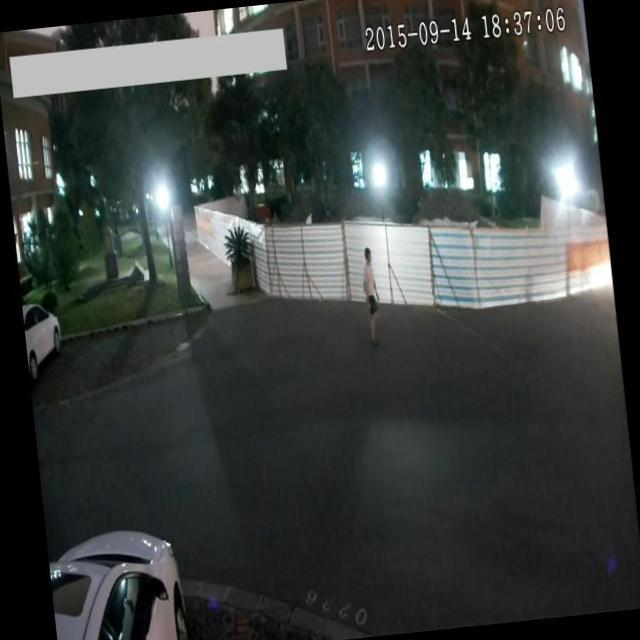person: (354, 240, 388, 356)
